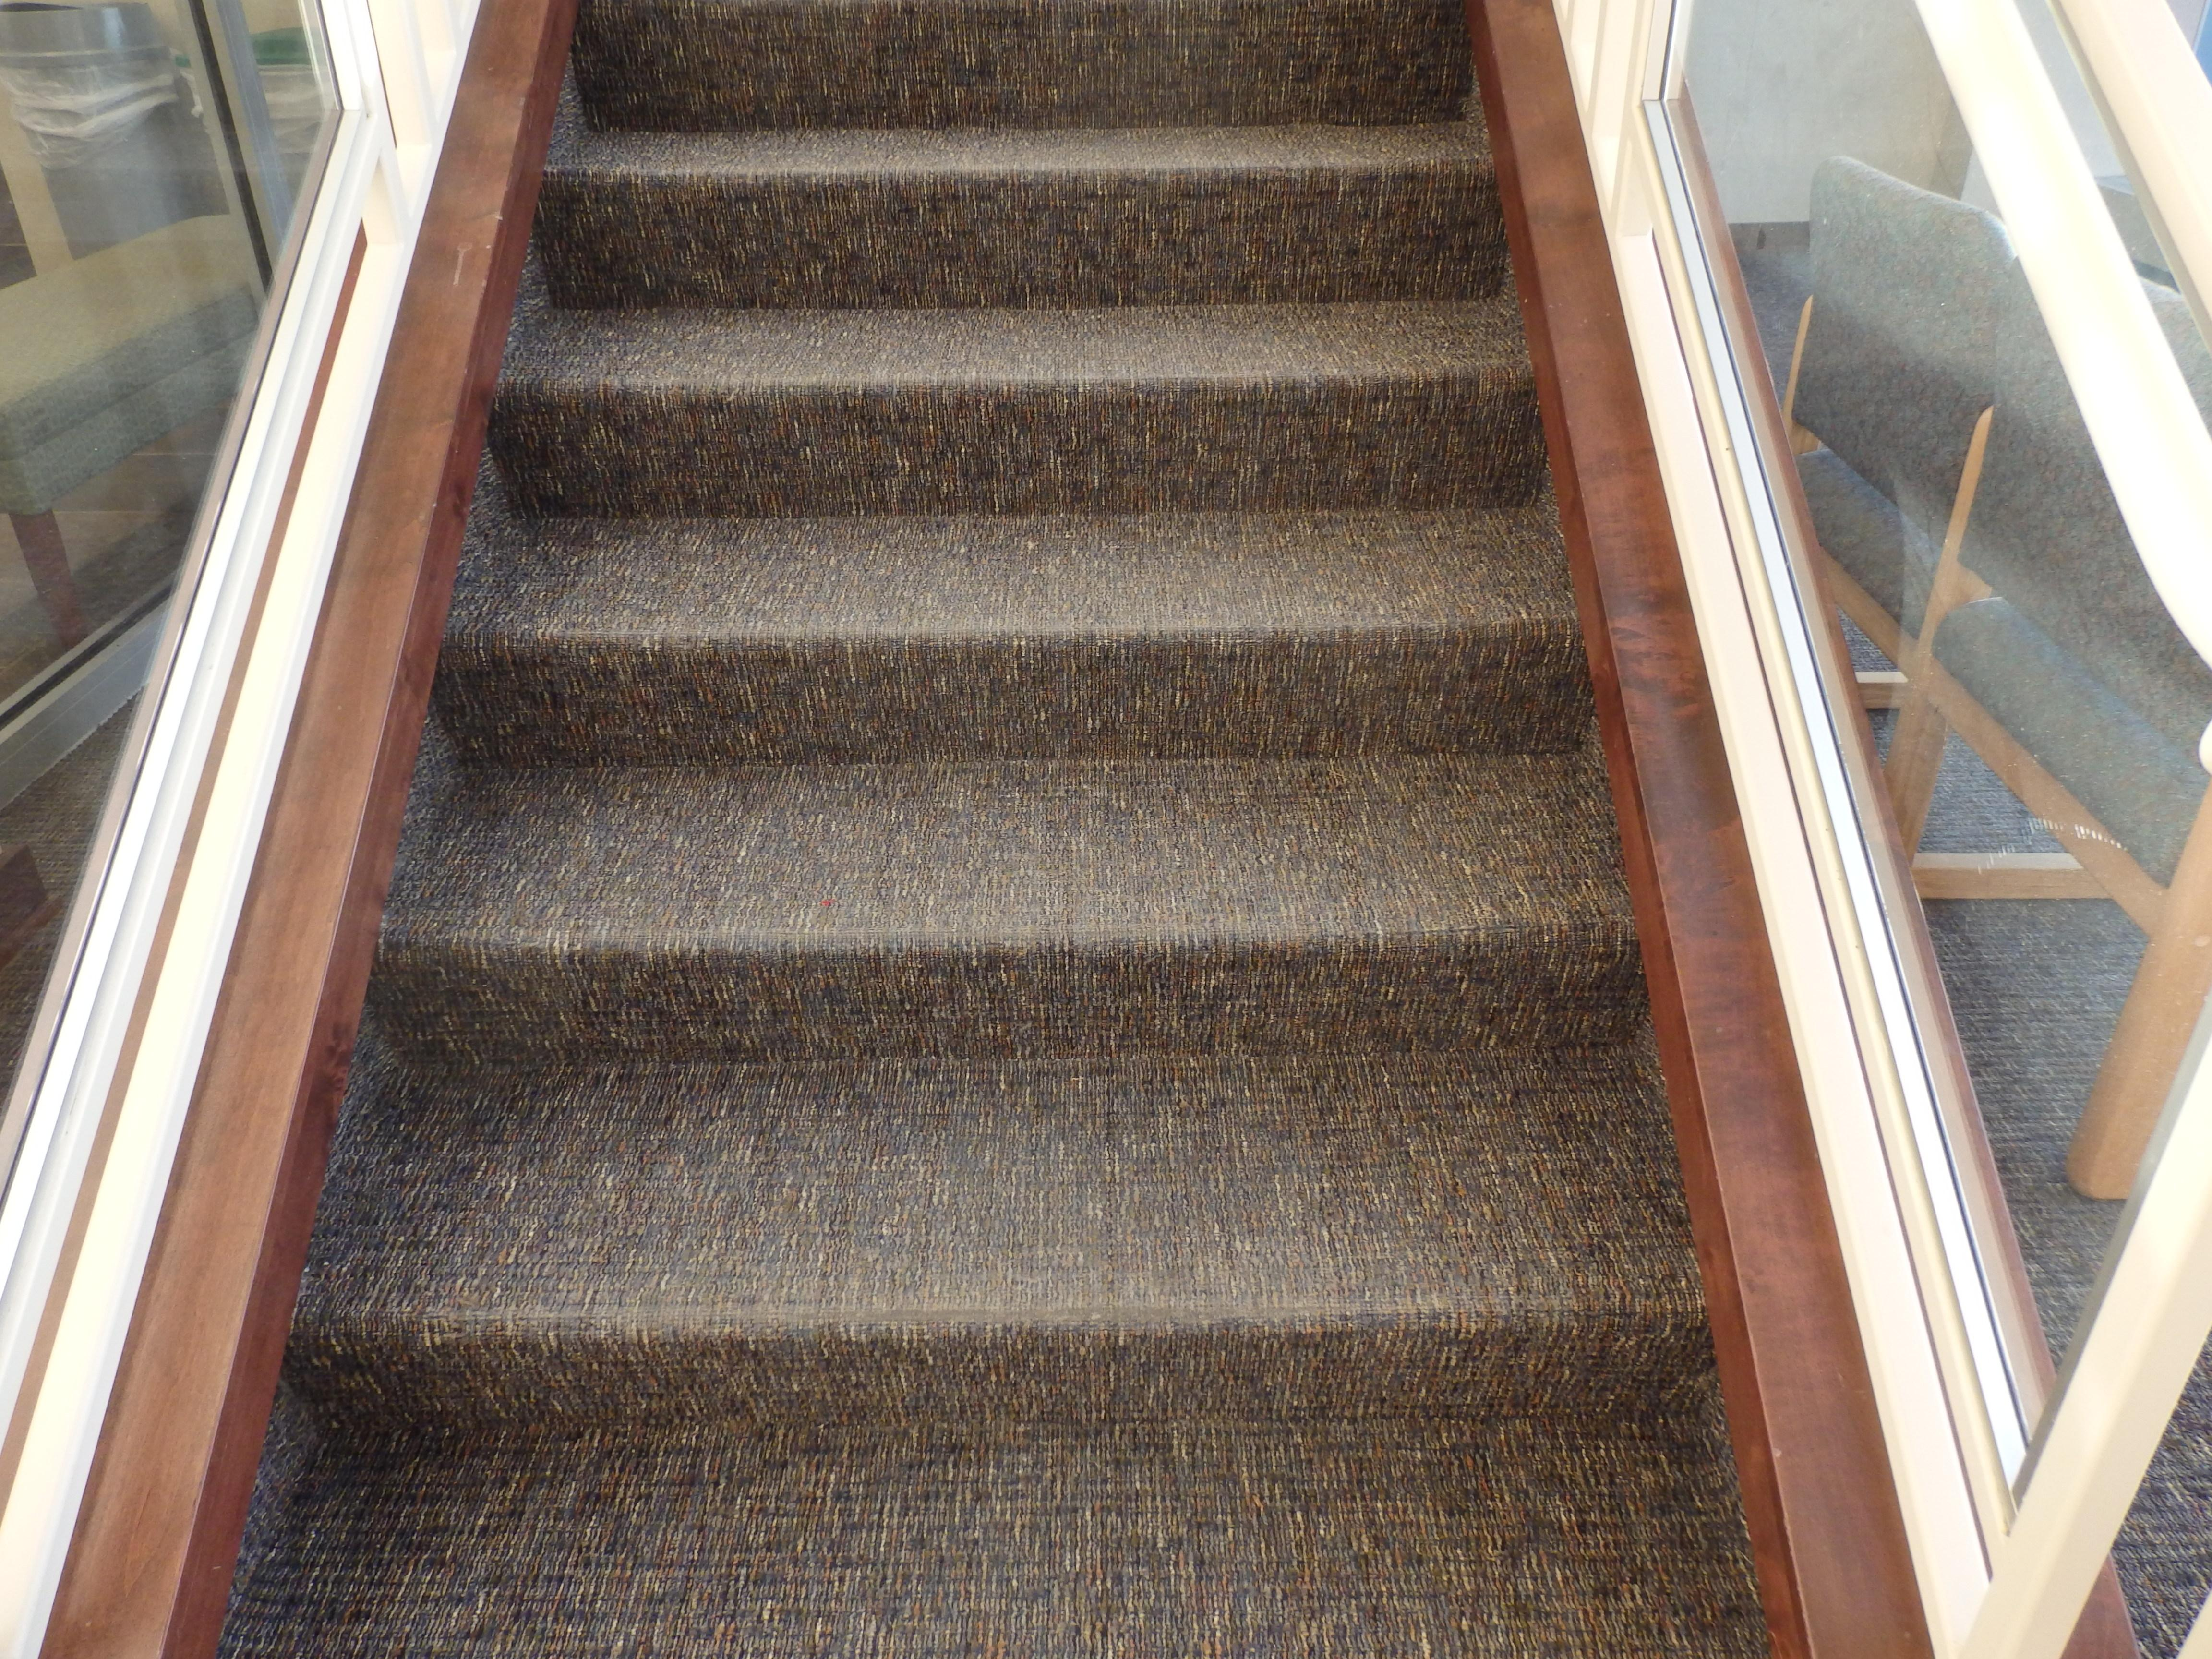stairs_up: (373, 9, 1670, 1483)
